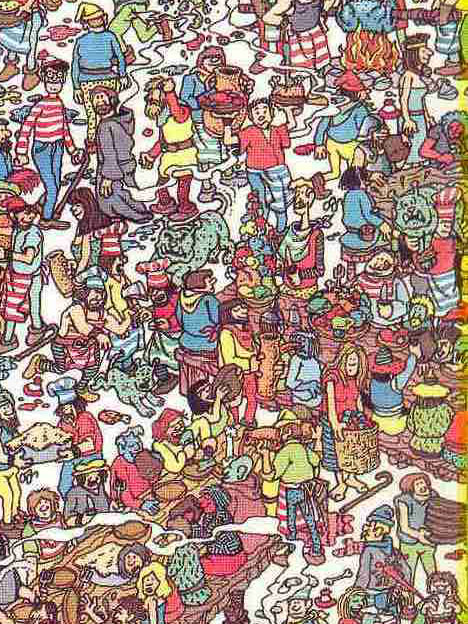waldo: (41, 50, 68, 96)
